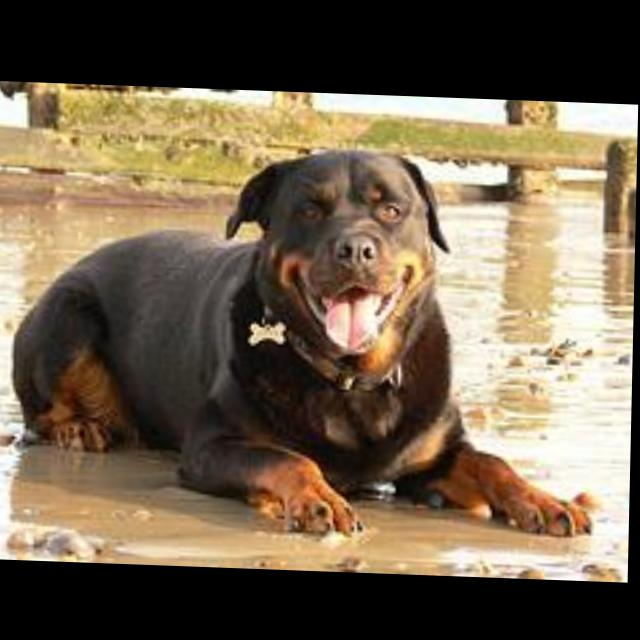rottweiler: (8, 133, 606, 543)
